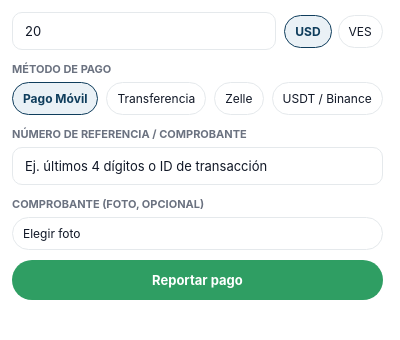
Test: PaymentForm › muestra un error y no rompe la UI si el envío falla (ej. usuario no autenticado)
Click the text "Reportar pago": (197, 280) [152, 272, 243, 288]
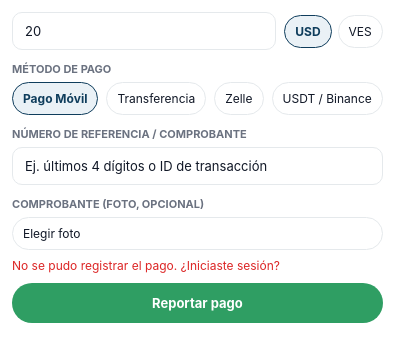
Expected: the text "No se pudo registrar el pago. ¿Iniciaste sesión?" is shown, [12, 258, 280, 273]
